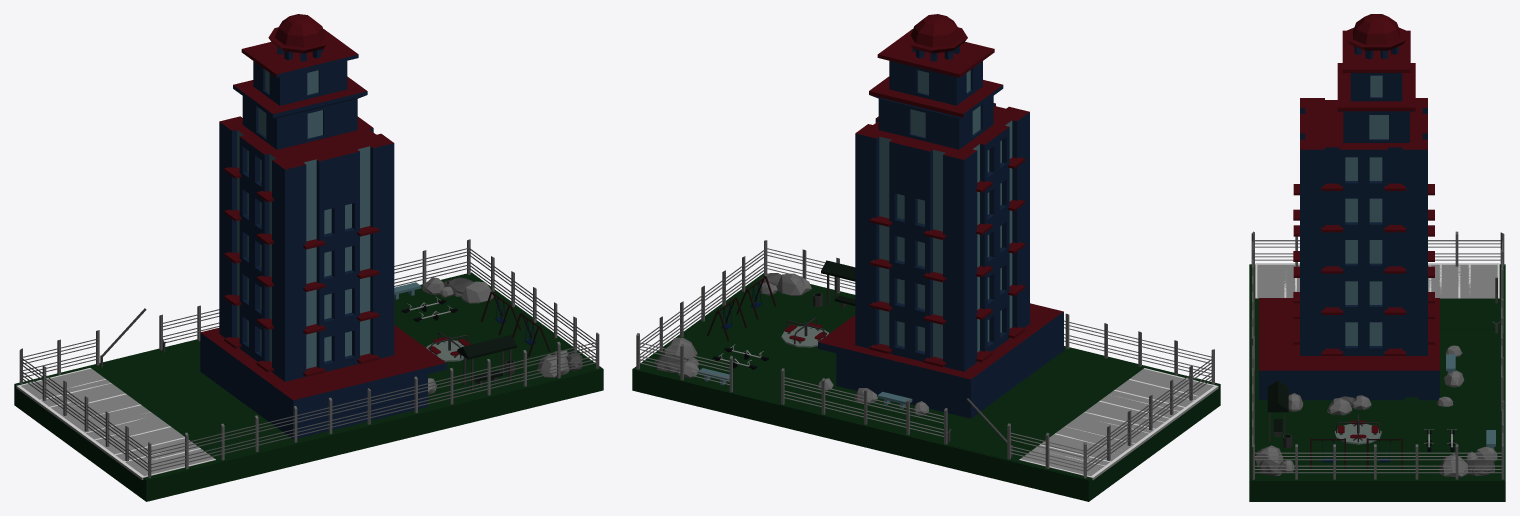
Rendered from Skyscraper2.FBX.
3 views of the same model, side by side, from view 1: azimuth 30°, elevation 25°; view 2: azimuth 150°, elevation 25°; view 3: azimuth 270°, elevation 25° (orthographic). The views are drawn at different scales.
Parts seen in each view (by area): view 1: Skyscraper2; view 2: Skyscraper2; view 3: Skyscraper2.
Part boxes in pixels (box(x1,y1,x2,y2)): Skyscraper2: box(14, 14, 603, 501); Skyscraper2: box(632, 14, 1220, 501); Skyscraper2: box(1249, 14, 1505, 501).
Size of the model in its own units: 20051 by 16003 by 10000.
